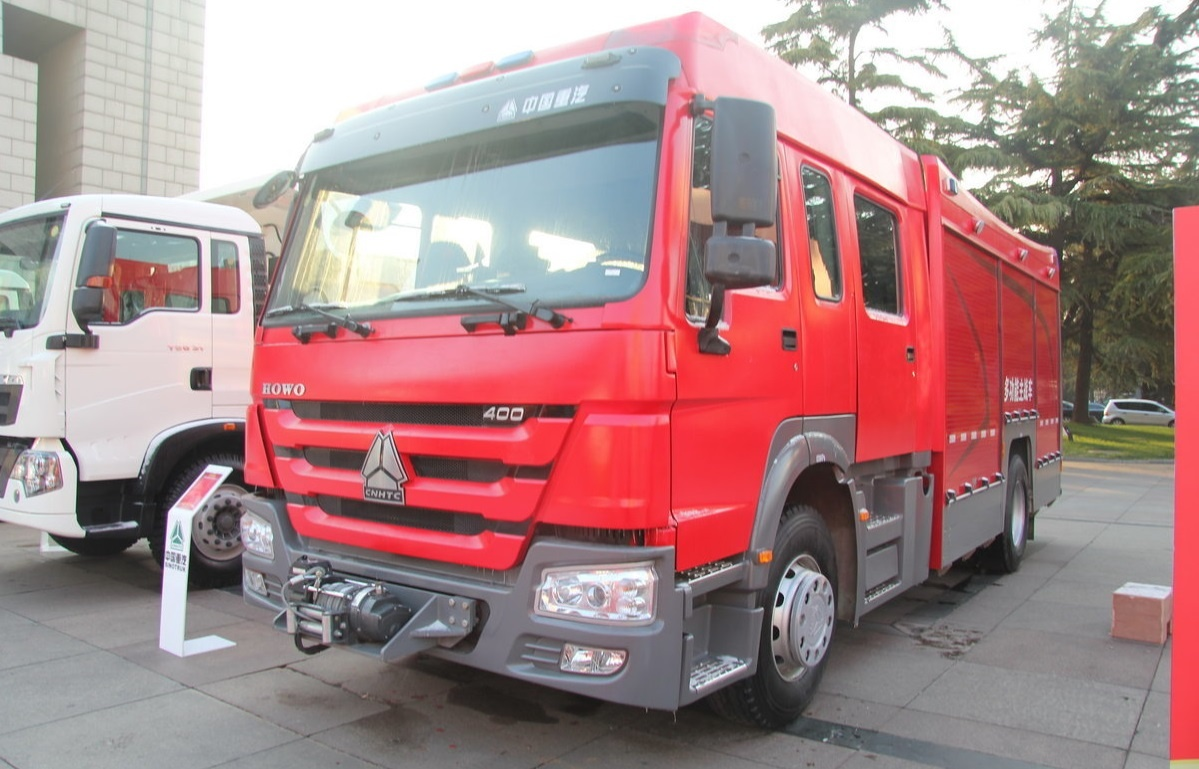fire engine: (217, 37, 1086, 702)
